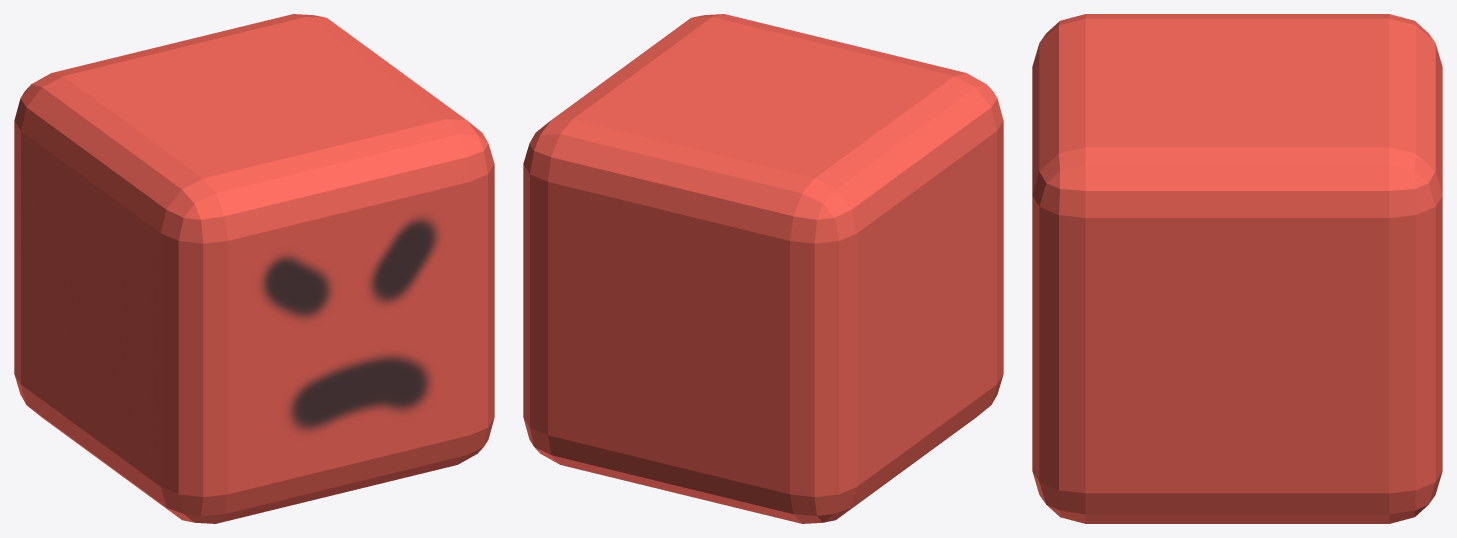
The model's file is Enemy.gltf.
3 renders of one model, left to right at view 1: azimuth 30°, elevation 25°; view 2: azimuth 150°, elevation 25°; view 3: azimuth 270°, elevation 25°, orthographic. The views are drawn at different scales.
Visible parts, largest first — view 1: Cube; view 2: Cube; view 3: Cube.
Part boxes in pixels (bbox=[...]): Cube: bbox=[14, 14, 494, 523]; Cube: bbox=[523, 14, 1003, 523]; Cube: bbox=[1032, 14, 1442, 523].
Size of the model in its own units: 1 by 1 by 1.
Materials: 1 (1 with a texture image).
